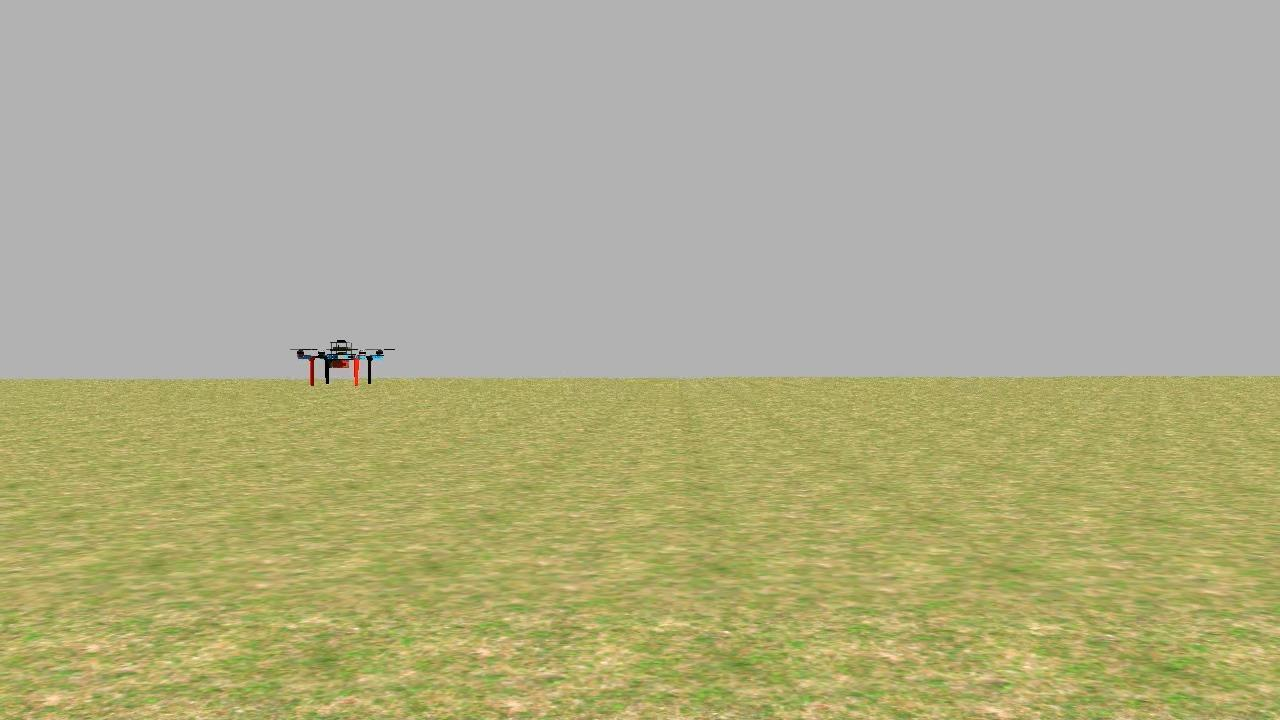UAV: (293, 332, 385, 394)
